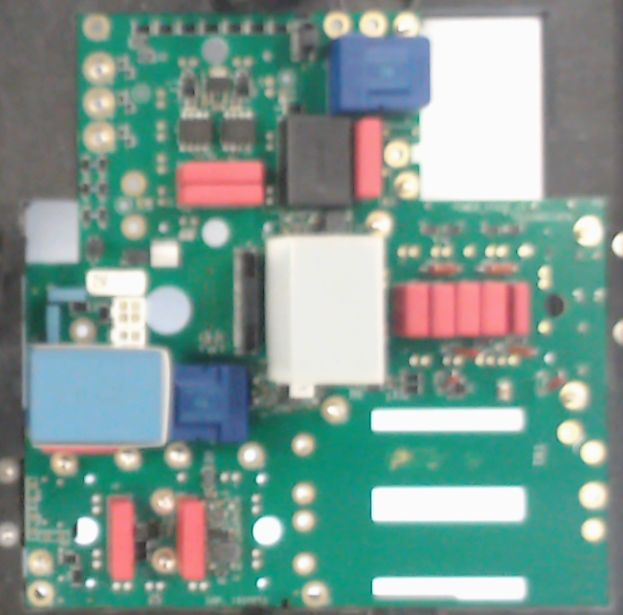comp1: (327, 34, 432, 110), (168, 364, 248, 444)
comp2: (175, 495, 206, 578), (353, 115, 384, 195), (106, 495, 134, 582), (391, 278, 429, 338), (175, 181, 264, 205), (175, 158, 266, 181), (454, 279, 482, 339), (430, 278, 456, 340), (484, 280, 510, 338), (509, 279, 532, 336)
comp3: (277, 112, 355, 208)
comp4: (263, 233, 386, 391), (25, 342, 170, 449)
